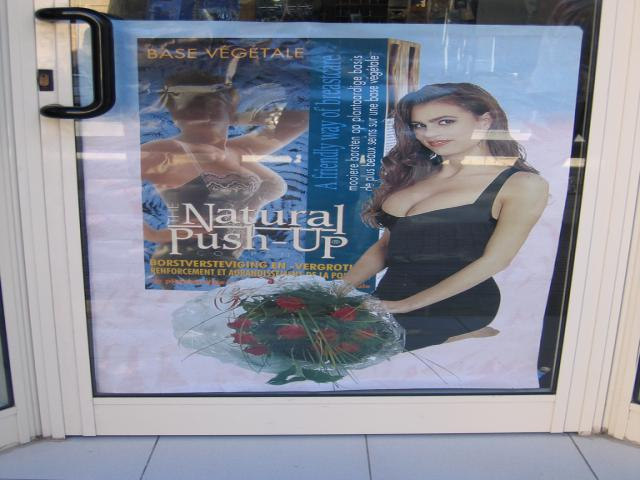Door-handle: (36, 7, 112, 118)
